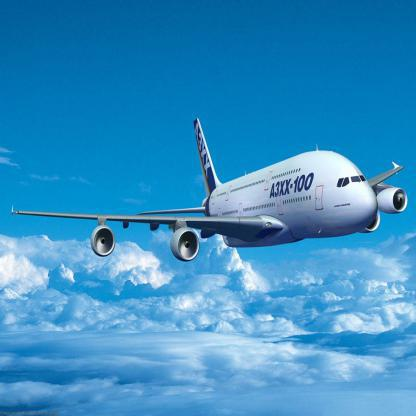CIV_Plane: (6, 111, 410, 272)
